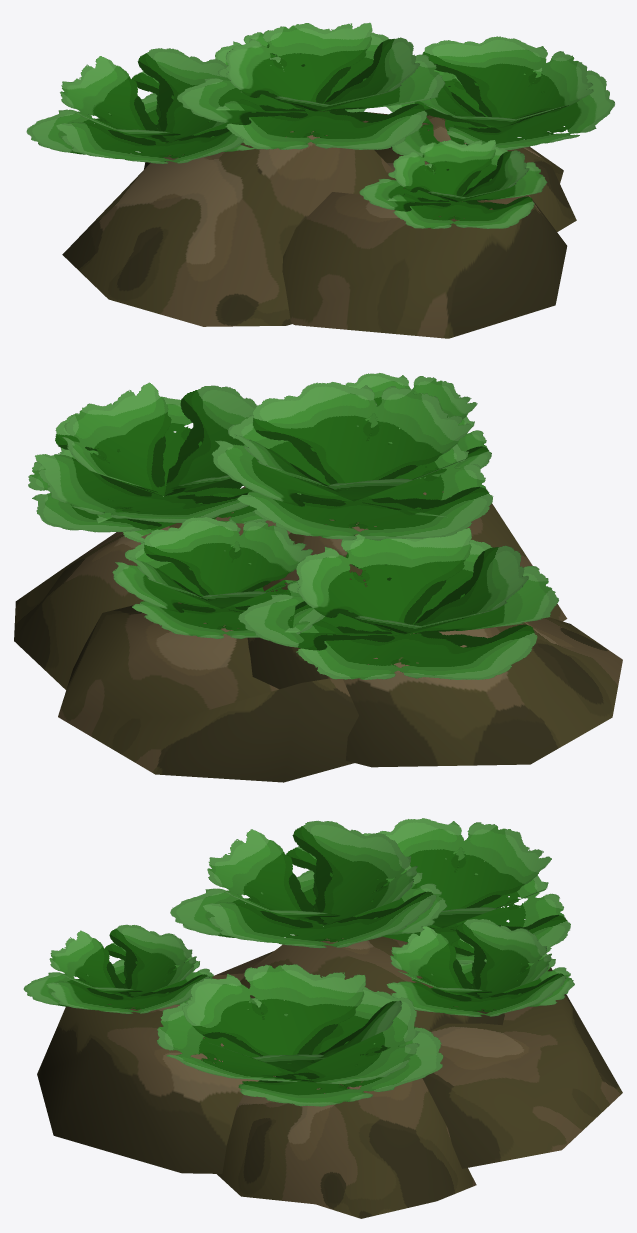
Rendered from Lettuce Coral 2_preview_3DS_simplified.glb.
3 views of the same model, one above another, from view 1: azimuth 30°, elevation 25°; view 2: azimuth 150°, elevation 25°; view 3: azimuth 270°, elevation 25° (orthographic). The views are drawn at different scales.
Visible parts, largest first — view 1: Marine Park Empire model; view 2: Marine Park Empire model; view 3: Marine Park Empire model.
Boxes of the visible parts, left/top/right/bottom form: Marine Park Empire model: left=26, top=22, right=614, bottom=338; Marine Park Empire model: left=14, top=373, right=622, bottom=782; Marine Park Empire model: left=23, top=818, right=622, bottom=1218.
Bounding box in the file's own units: 73.65 × 29.88 × 70.03.
Materials: 2 (2 with a texture image).
